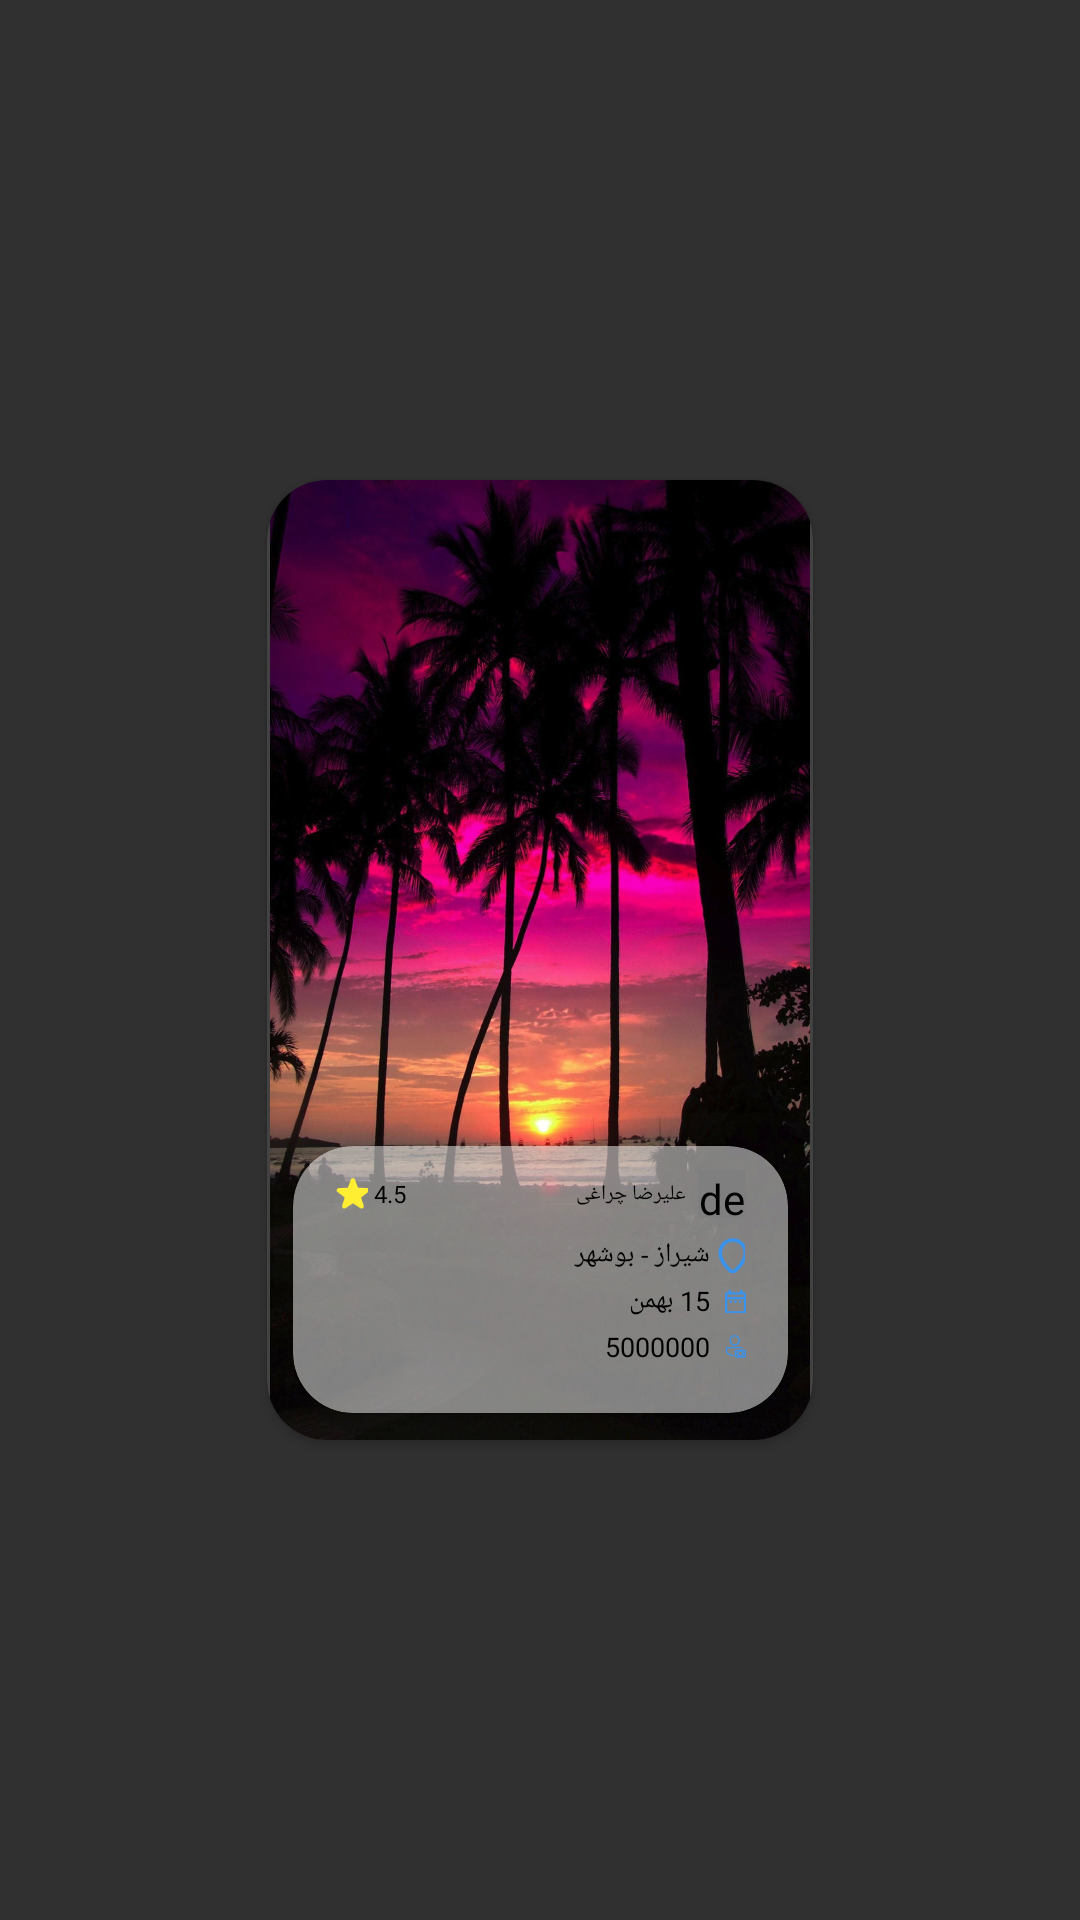

Point at icon controls on the screen. Image size 1080px x 1920px, points as point (x, y).
location: point (731, 1255)
star: point (352, 1193)
